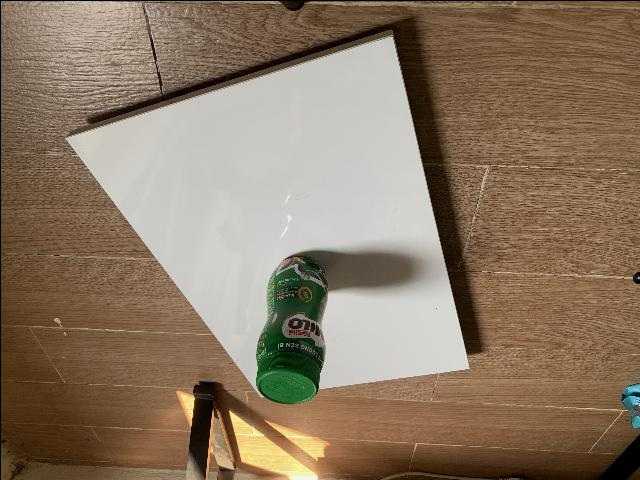milo: (255, 255, 328, 403)
